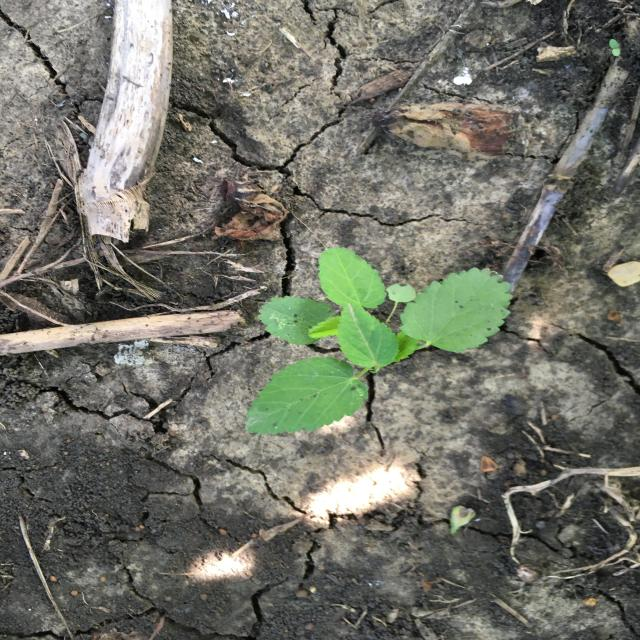PricklySida: (243, 245, 514, 436)
